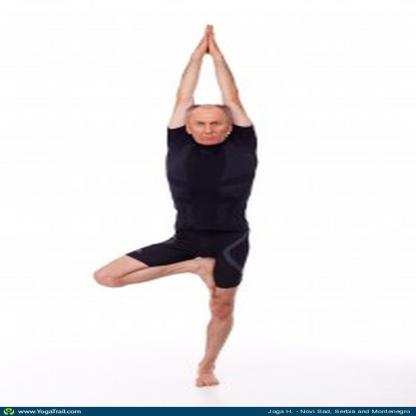tree: (79, 17, 284, 397)
